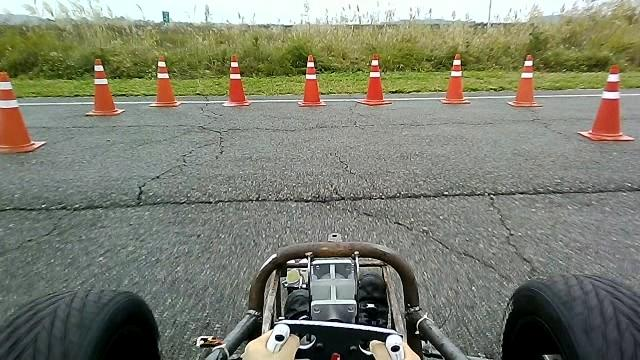red cone: (577, 63, 635, 141), (0, 70, 46, 153), (84, 58, 125, 116), (506, 54, 543, 107), (356, 53, 392, 105), (148, 55, 181, 107), (440, 53, 470, 104), (297, 54, 326, 106), (222, 54, 250, 106)
